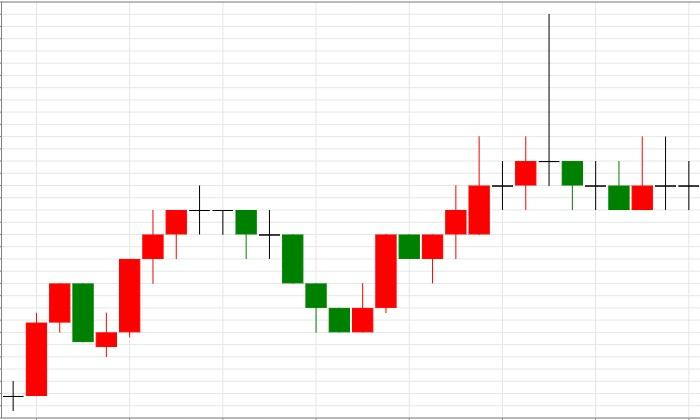bullish_engulfing_rise: (189, 185, 374, 332)
evening_star_fall: (352, 13, 583, 332)
